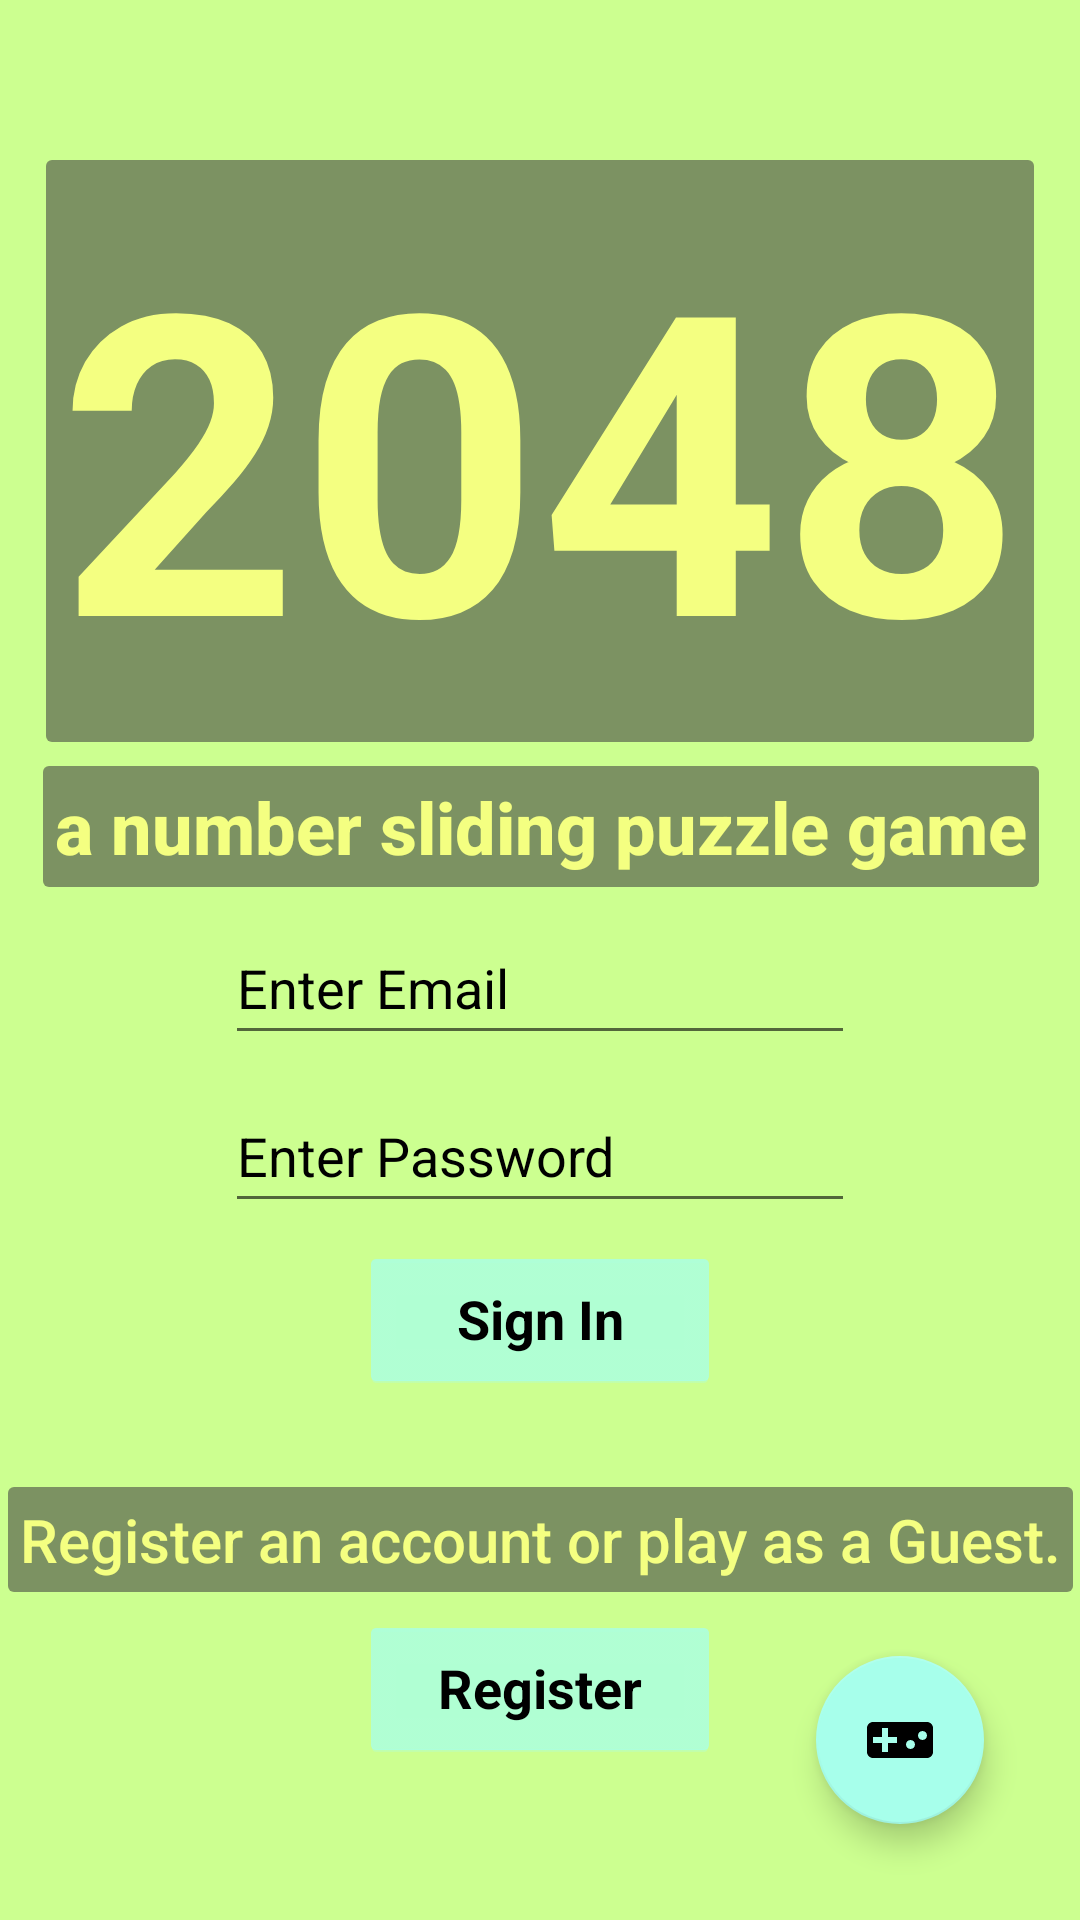

Screen size 1080 × 1920. Icon name, then its center in pixels as [x,y]:
start button: [900,1740]
